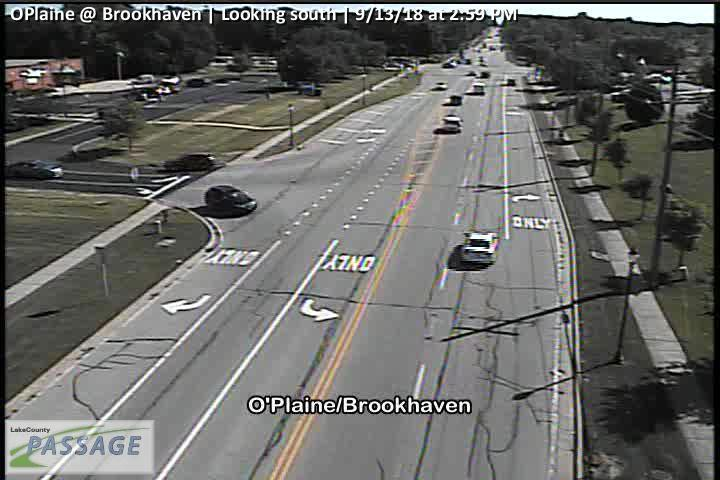SUV: (204, 184, 257, 213), (462, 230, 499, 265), (165, 153, 218, 170), (443, 114, 463, 134), (474, 83, 484, 94), (450, 95, 462, 104)
Sedan: (6, 159, 63, 180), (435, 82, 447, 89)
